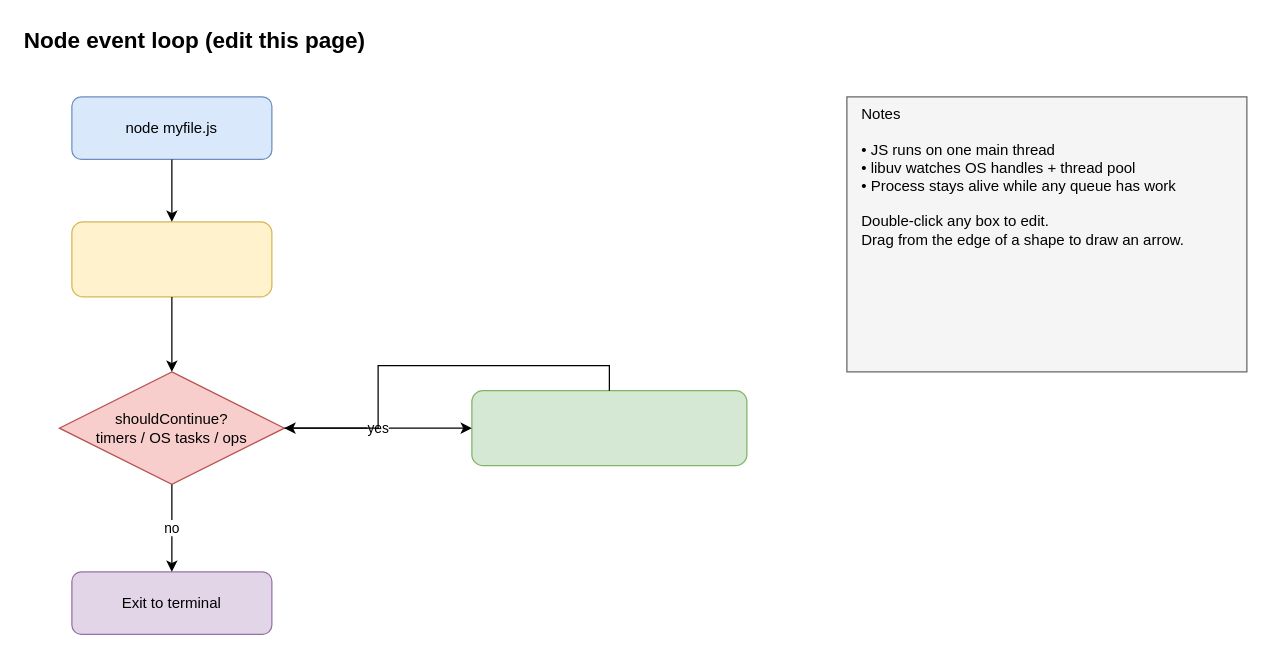
Image size: 1269x656. Some labels were removed from this diagram. The centre of each missing label's shape, as x and y in pixels:
"One tick: timers → poll I/O → setImmediate" belongs at pixel 609 427.
"Run top-level code (myfile.runContent)" belongs at pixel 171 259.
